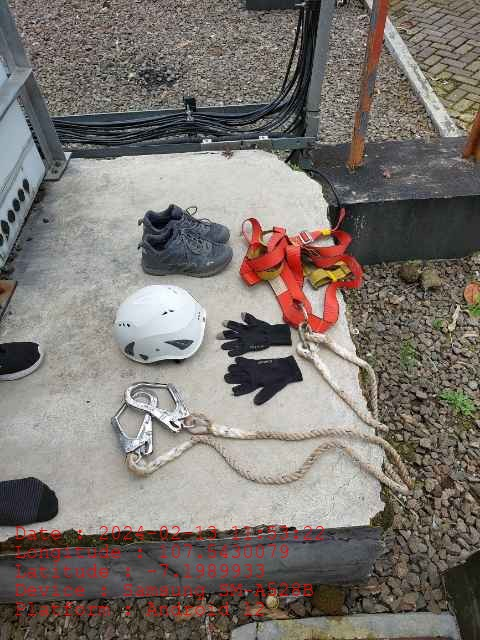HELM: (115, 284, 205, 364)
SARUNG_TANGAN: (225, 356, 302, 407), (215, 312, 291, 355)
SEPATU: (140, 205, 233, 279)
TAMBANG_SLING: (101, 388, 416, 498)
